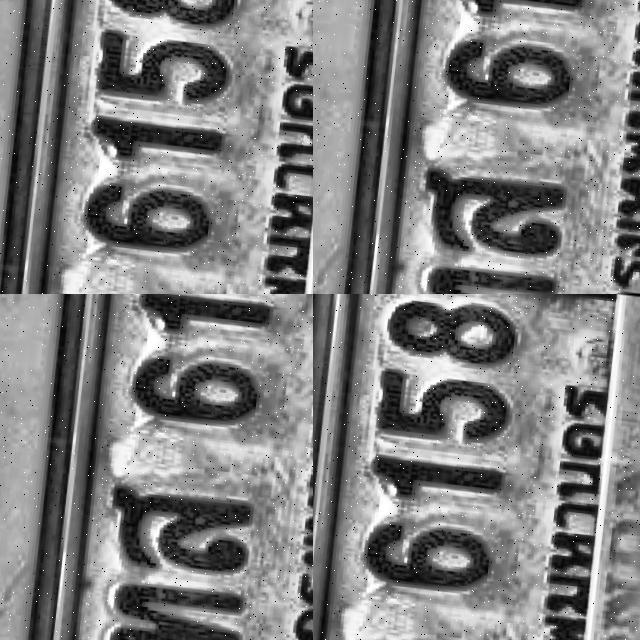license-plate: (313, 294, 640, 640), (0, 294, 297, 640), (313, 0, 601, 294), (0, 6, 137, 294)
